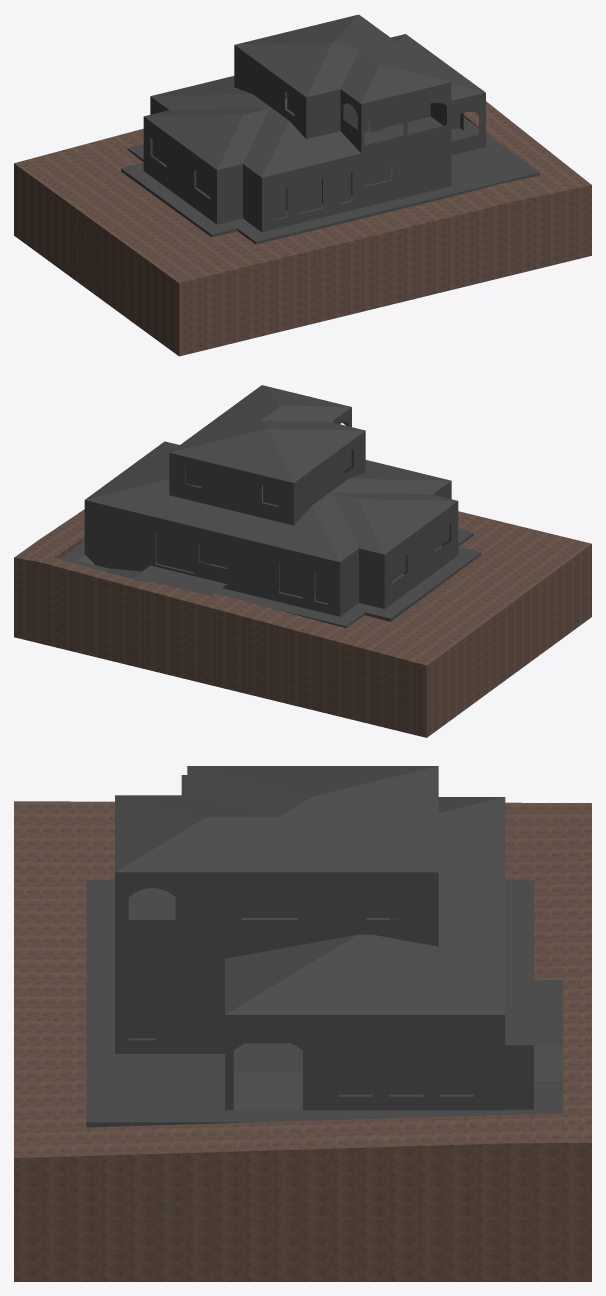
The model's file is Concept.fbx.
3 renders of one model, top to bottom at view 1: azimuth 30°, elevation 25°; view 2: azimuth 150°, elevation 25°; view 3: azimuth 270°, elevation 25°, orthographic. The views are drawn at different scales.
Parts seen in each view (by area): view 1: Model; view 2: Model; view 3: Model.
Boxes of the visible parts, x1=… form: Model: x1=14, y1=14, x2=591, y2=356; Model: x1=14, y1=385, x2=591, y2=737; Model: x1=14, y1=766, x2=591, y2=1281.
Size of the model in its own units: 28.85 by 12.87 by 20.
2 materials, 1 textured.
